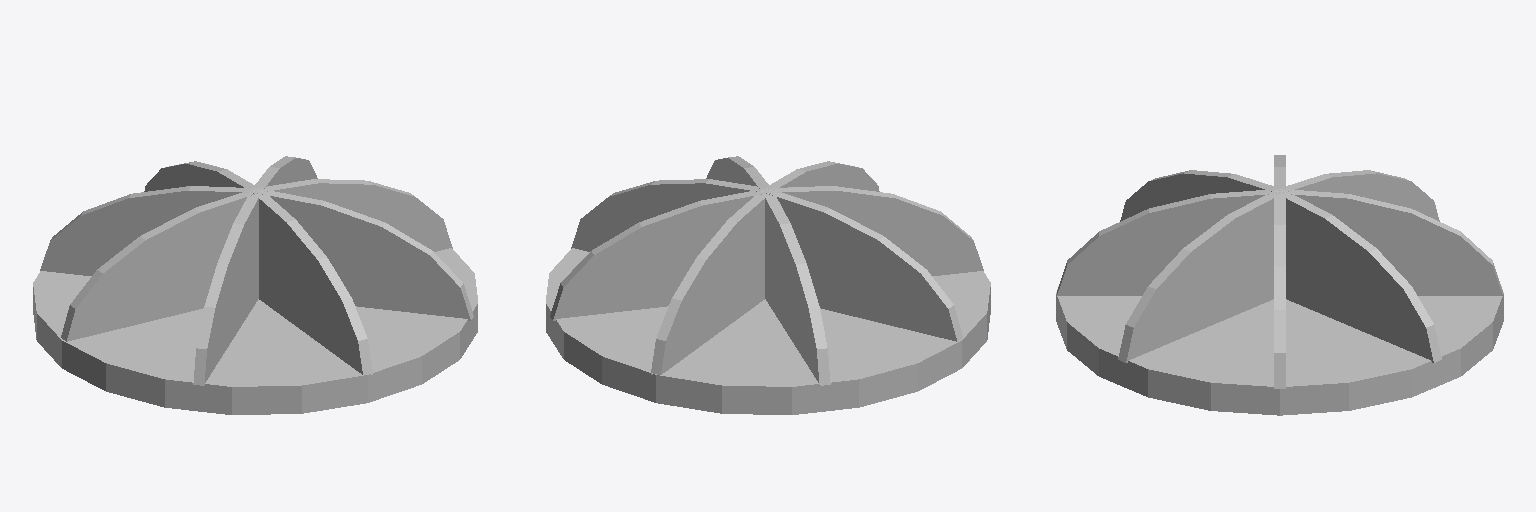
File: enemy_rotator.obj
3 views of the same model, side by side, from view 1: azimuth 30°, elevation 25°; view 2: azimuth 150°, elevation 25°; view 3: azimuth 270°, elevation 25° (orthographic).
Visible parts, largest first — view 1: Circle; view 2: Circle; view 3: Circle.
Part boxes in pixels (x1,y1,x2,y2): Circle: (33, 156, 477, 414); Circle: (546, 156, 990, 414); Circle: (1056, 155, 1503, 415).
Size of the model in its own units: 2 by 0.6421 by 2.